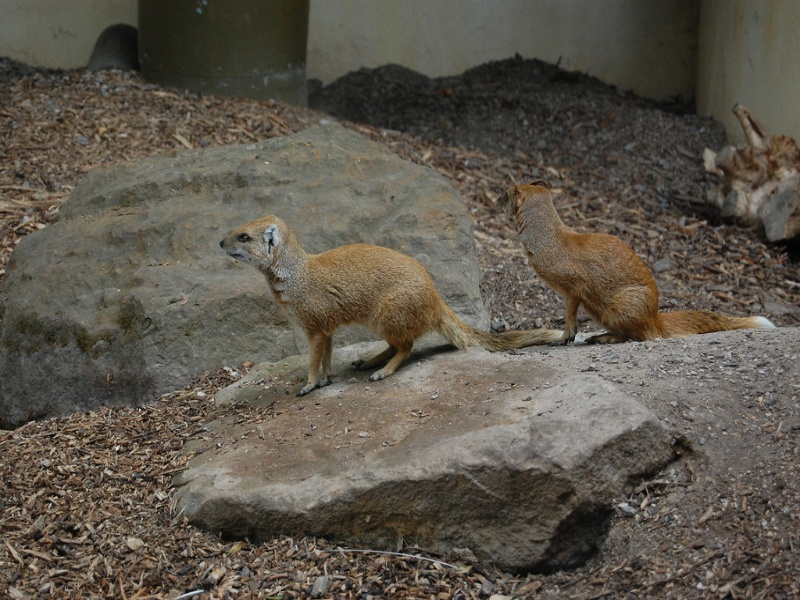minkish: (504, 176, 775, 351), (220, 218, 478, 392)
